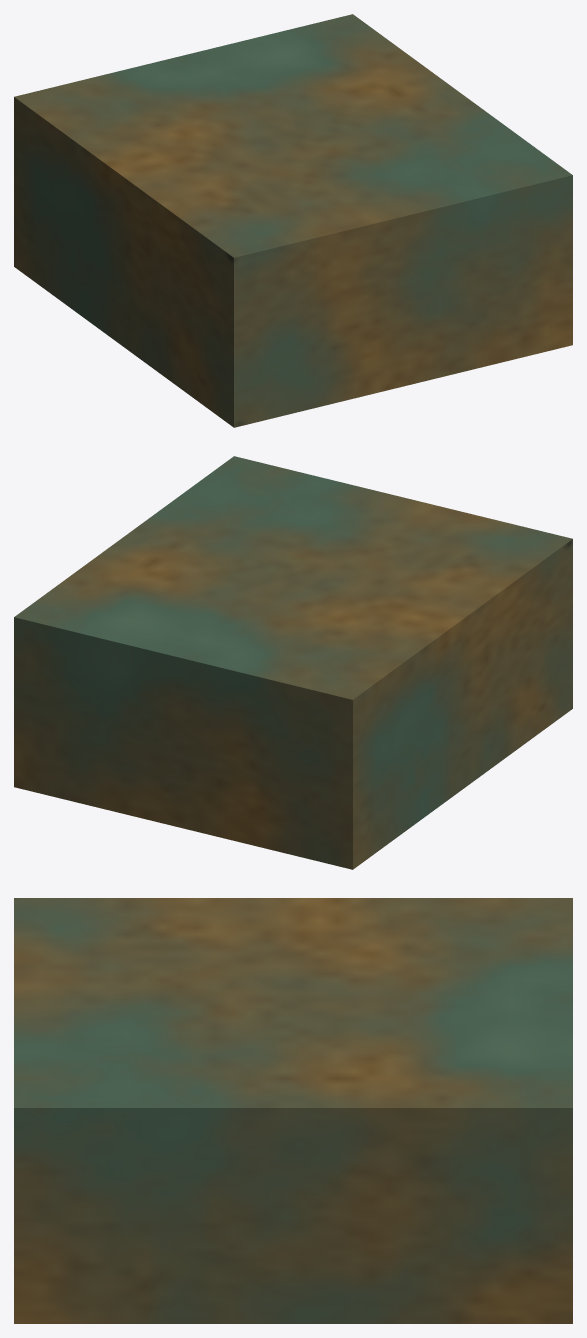
File: Lintel end bronze shoe__n2.glb
3 renders of one model, top to bottom at view 1: azimuth 30°, elevation 25°; view 2: azimuth 150°, elevation 25°; view 3: azimuth 270°, elevation 25°, orthographic. The views are drawn at different scales.
Parts seen in each view (by area): view 1: Lintel end bronze shoe; view 2: Lintel end bronze shoe; view 3: Lintel end bronze shoe.
Boxes of the visible parts, box(x1,y1,x2,y2) form: Lintel end bronze shoe: box(14, 14, 572, 427); Lintel end bronze shoe: box(14, 456, 572, 869); Lintel end bronze shoe: box(14, 898, 572, 1323).
Size of the model in its own units: 0.48 by 0.23 by 0.54.
1 material, 1 textured.
